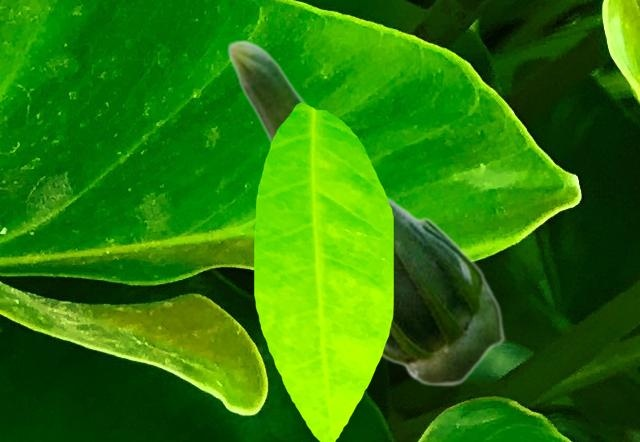okra: (226, 39, 504, 386)
